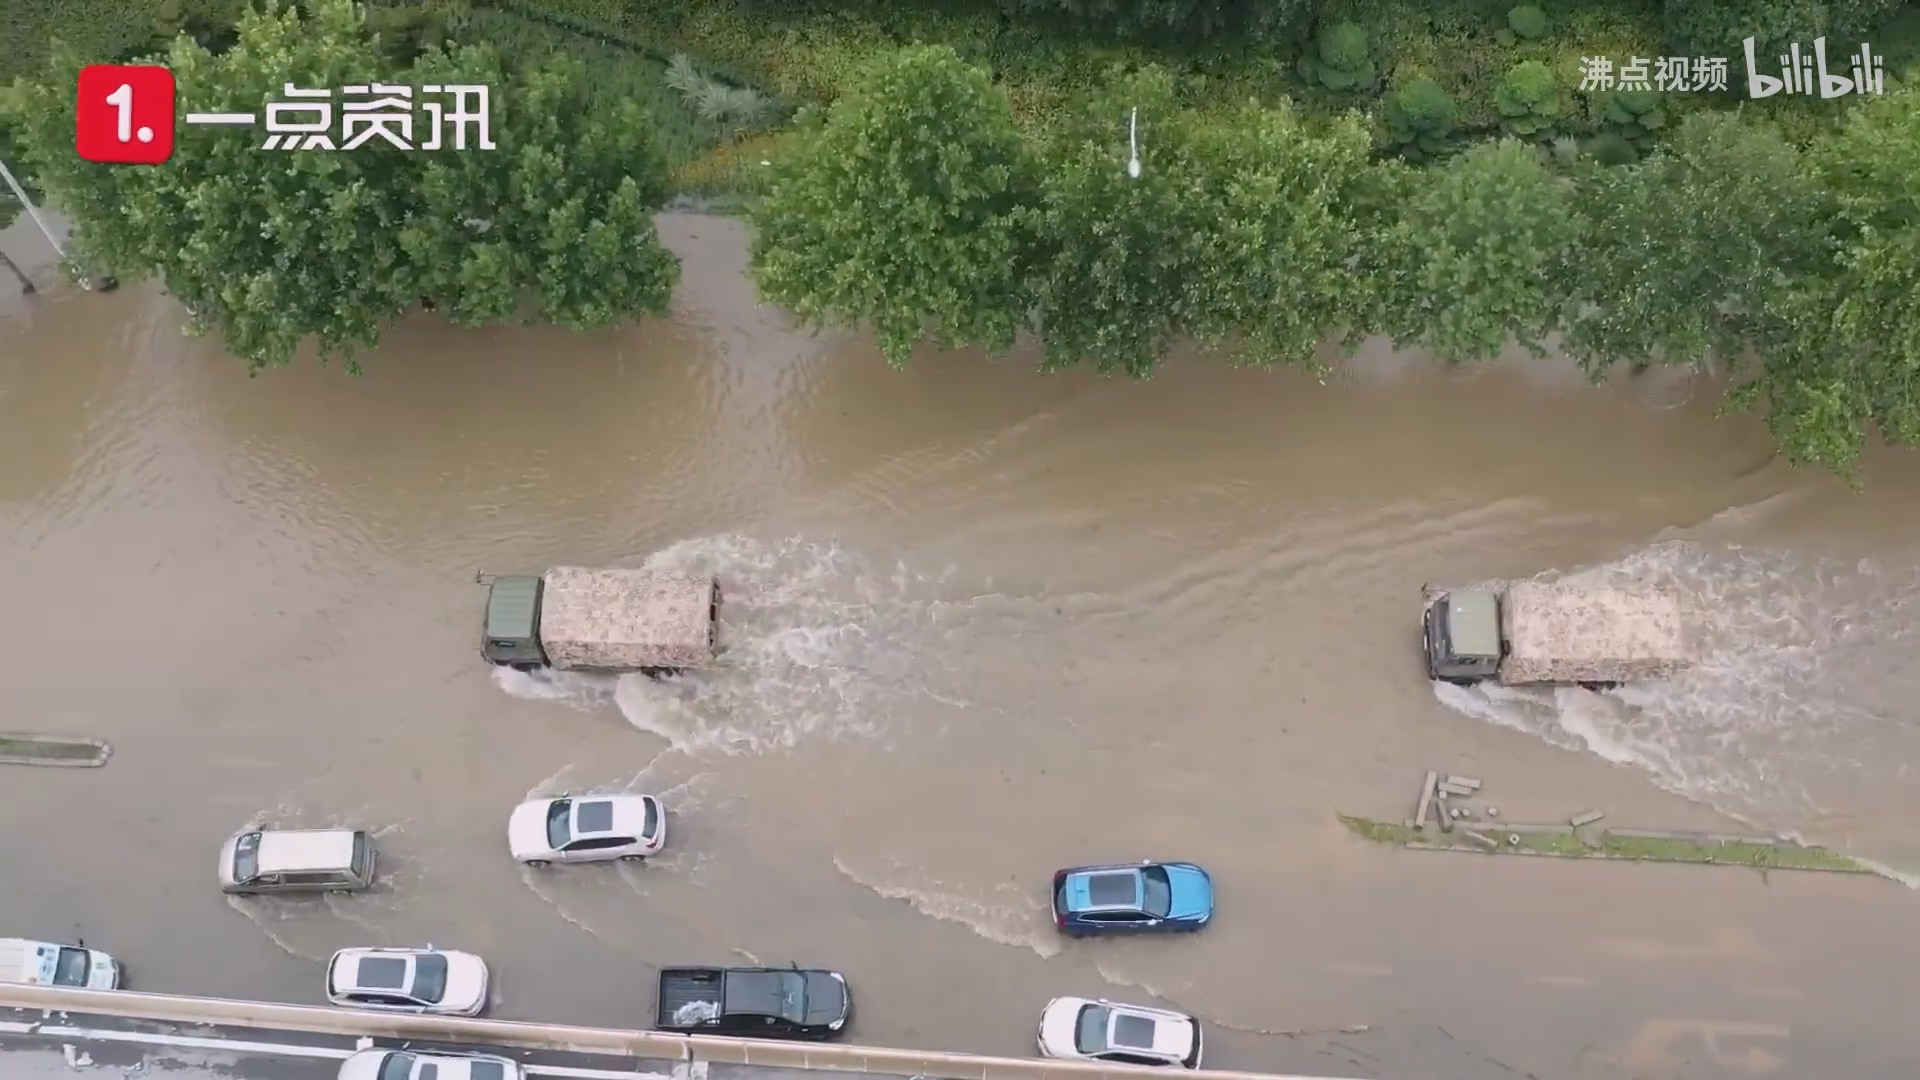puddle: (1, 318, 1909, 1072)
